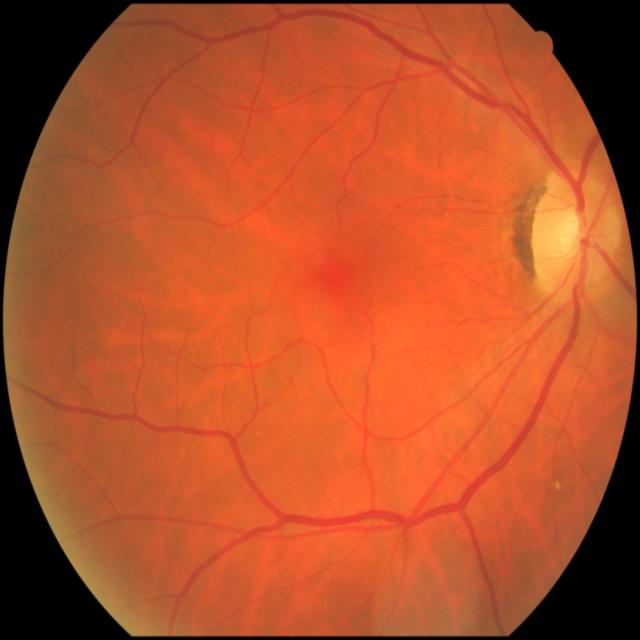OC: (559, 208, 590, 258)
OD: (533, 177, 623, 301)
